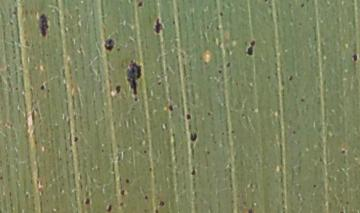tarspot: (125, 58, 143, 96), (37, 12, 49, 39), (152, 16, 164, 35), (103, 37, 115, 52), (245, 40, 256, 56), (189, 130, 198, 142), (189, 165, 197, 177), (114, 84, 122, 94), (105, 203, 113, 213), (23, 38, 31, 48), (351, 53, 359, 62), (83, 197, 91, 206), (38, 84, 47, 91), (185, 112, 192, 121), (167, 103, 174, 112), (225, 60, 232, 69), (265, 73, 272, 82), (119, 188, 126, 196), (124, 177, 131, 185), (339, 148, 346, 156), (287, 74, 294, 82), (298, 97, 306, 104), (217, 11, 224, 19), (158, 198, 164, 207), (12, 85, 21, 91), (72, 135, 79, 142), (311, 182, 318, 189), (290, 128, 297, 135), (299, 3, 306, 10), (136, 2, 144, 8), (246, 207, 253, 213), (118, 200, 124, 207), (133, 96, 139, 103), (156, 80, 162, 87), (217, 68, 223, 75), (143, 193, 149, 200), (205, 149, 211, 156), (171, 18, 176, 26), (147, 165, 152, 173), (1, 174, 5, 183), (142, 148, 147, 154), (206, 111, 212, 116), (230, 128, 235, 134), (154, 208, 159, 213), (262, 1, 269, 3)
